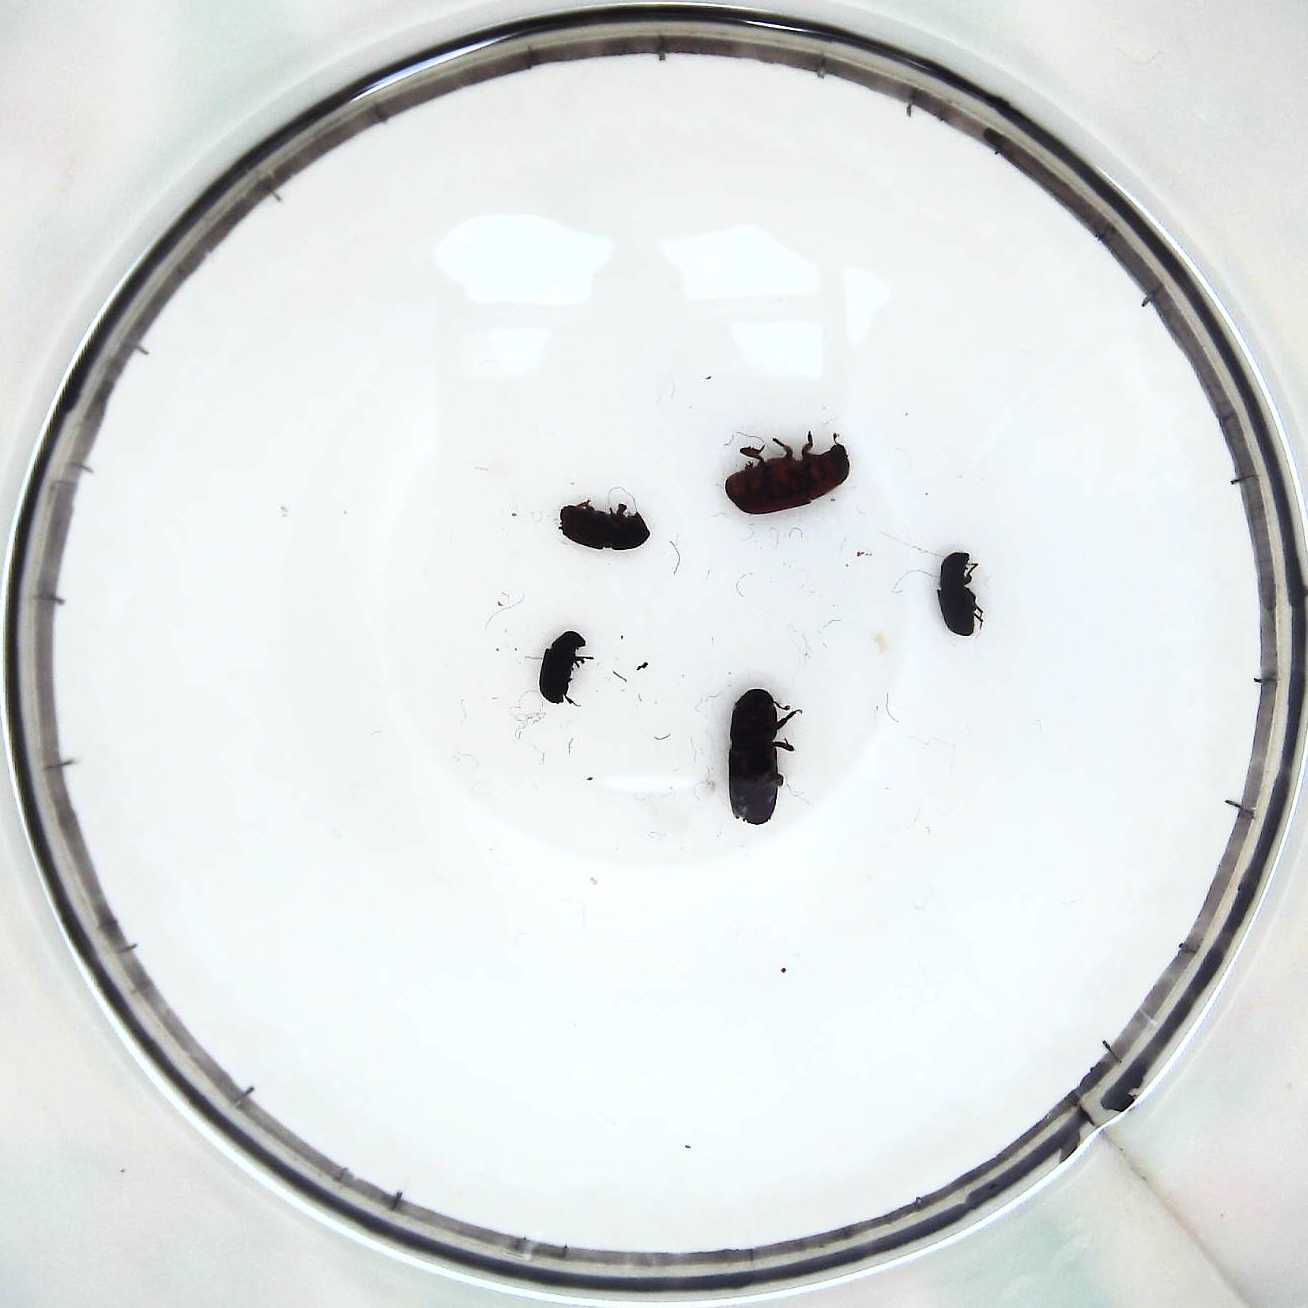Boerner: (723, 688, 791, 825)
Leconte: (723, 436, 850, 520)
Linnaeus: (557, 496, 654, 551)
armandi: (939, 551, 985, 636)
coleoptera: (541, 632, 587, 709)
